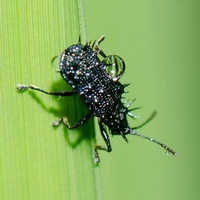insect: (17, 35, 176, 164)
